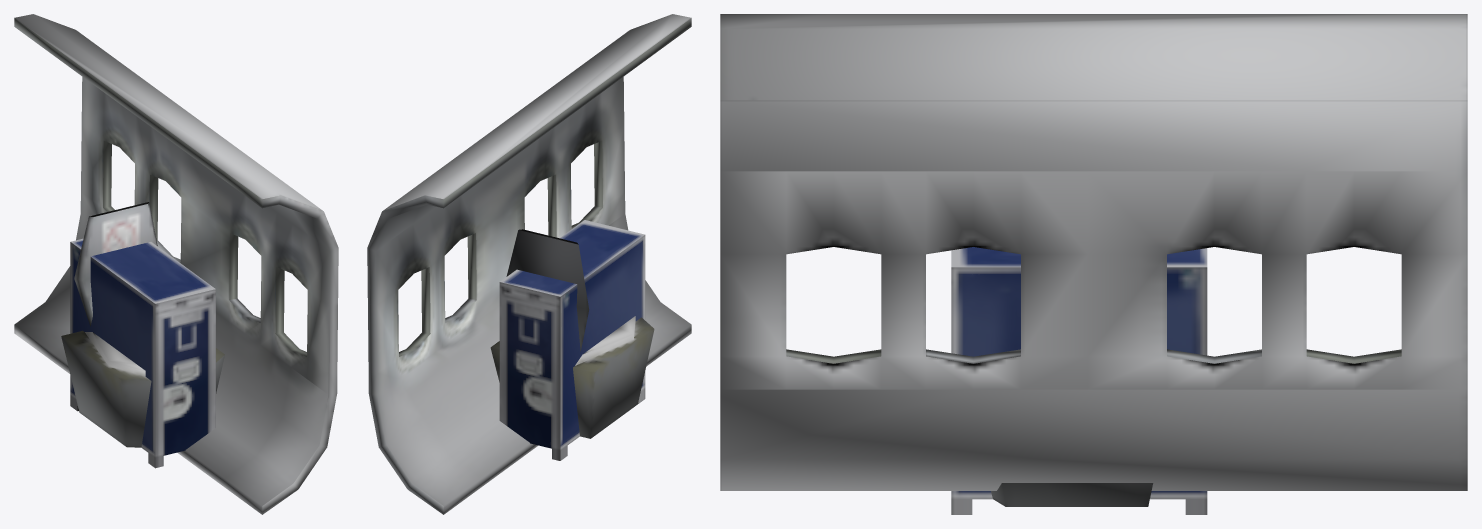
File: PlaneAttributes.fbx
3 renders of one model, left to right at view 1: azimuth 30°, elevation 25°; view 2: azimuth 150°, elevation 25°; view 3: azimuth 270°, elevation 25°, orthographic. The views are drawn at different scales.
Visible parts, largest first — view 1: Cube.003, Cube.004, Cube.006; view 2: Cube.003, Cube.004, Cube.006; view 3: Cube.003, Cube.004, Cube.006.
Part boxes in pixels (x1,y1,x2,y2): Cube.003: (14, 14, 338, 514); Cube.004: (70, 238, 215, 468); Cube.006: (61, 202, 224, 447); Cube.003: (367, 14, 691, 514); Cube.004: (499, 220, 645, 460); Cube.006: (490, 229, 654, 438); Cube.003: (720, 14, 1467, 490); Cube.004: (951, 247, 1207, 514); Cube.006: (991, 483, 1153, 506).
Size of the model in its own units: 1.75 by 4.13 by 5.84.
